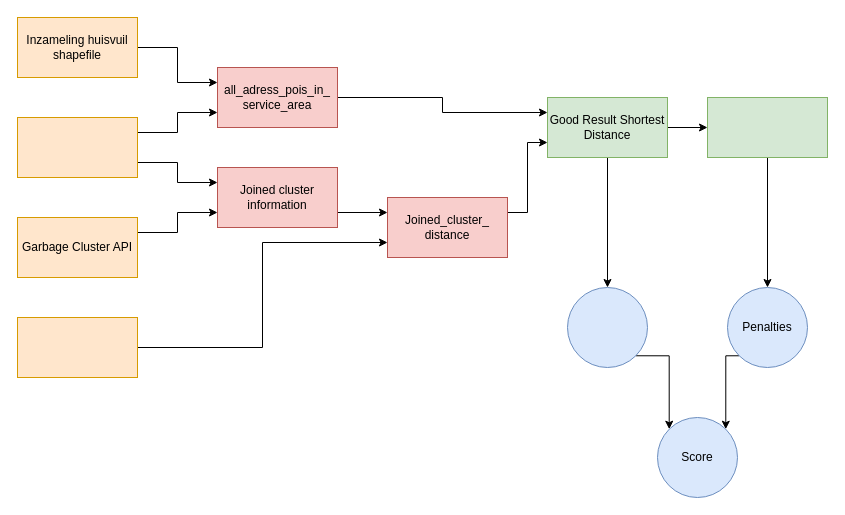
Some shapes in this 845 by 515 pixel diagram are drawn without their labels. Here are the shapes that lost their labels. From the top down, the box of each, then its label:
(16, 116, 138, 178): DB: afv_rel_nodes_poi
(706, 96, 828, 158): Aansluitingen
(16, 316, 138, 378): DB: afv_poi_afstand
(566, 286, 648, 368): Service Level
